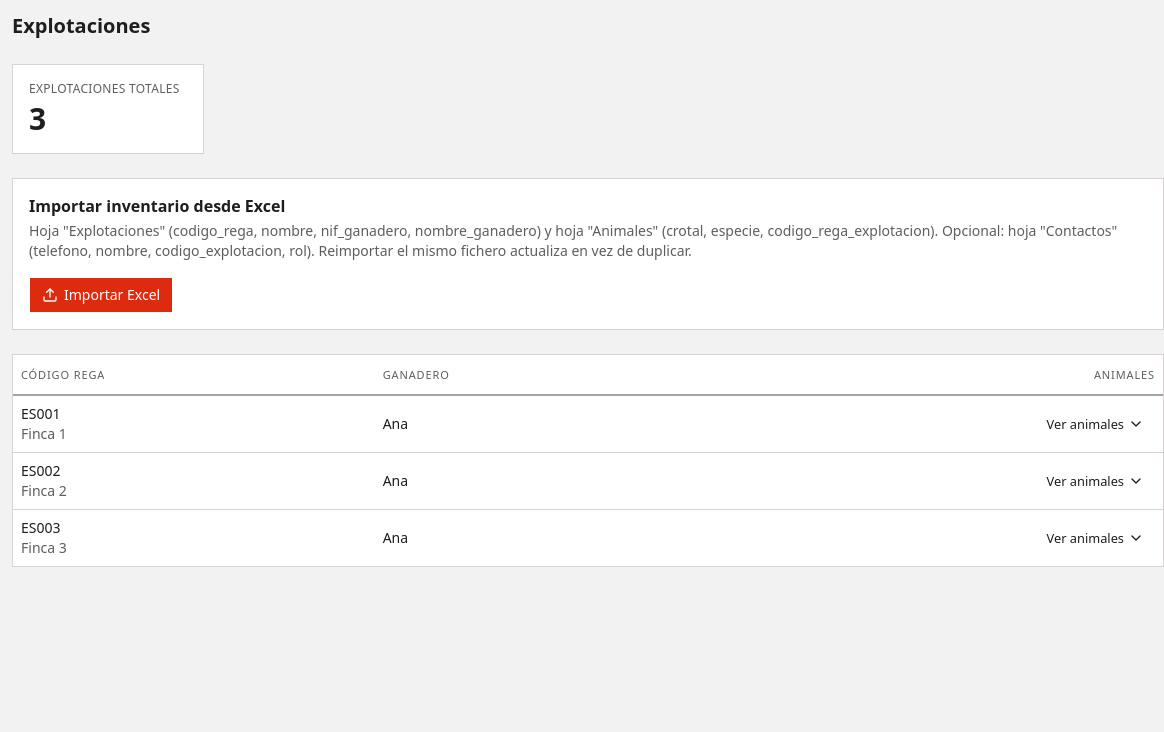
Test: ExplotacionesPage: móvil sin scroll lateral (I1) › por debajo de sm: sin columna Nombre; el nombre va una sola vez, en gris bajo el REGA, y el panel ocupa 3
Expected: the text "ES002" is shown, [21,461,60,480]
Expected: the text "Finca 2" is shown once, [21,481,67,500]
Click the button "Ver animales" in the row of "ES002": [1095, 481] box [1036,466,1155,496]
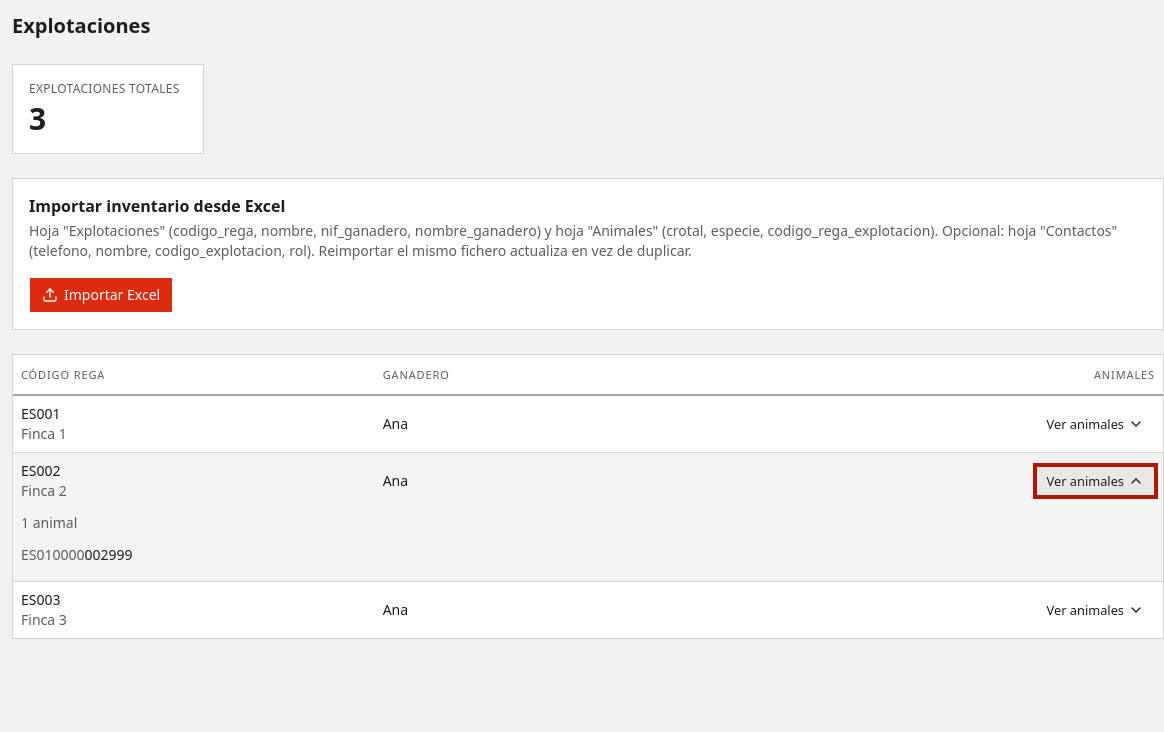
Expected: the list named "Crotales" is shown, [21,545,133,564]
